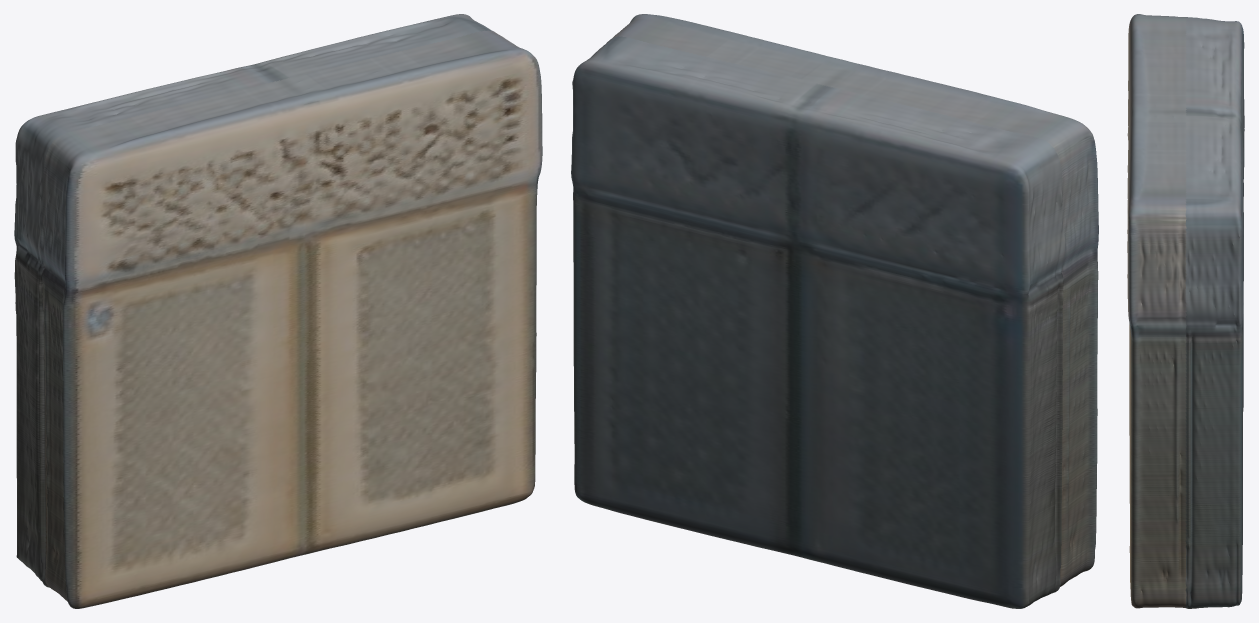
Rendered from kfl-2215.glb.
The picture shows the model from 3 angles, left to right: view 1: azimuth 30°, elevation 25°; view 2: azimuth 150°, elevation 25°; view 3: azimuth 270°, elevation 25°; orthographic projection. The views are drawn at different scales.
Parts seen in each view (by area): view 1: geometry_0; view 2: geometry_0; view 3: geometry_0.
Boxes of the visible parts, x1=… form: geometry_0: x1=14, y1=14, x2=542, y2=608; geometry_0: x1=571, y1=14, x2=1098, y2=608; geometry_0: x1=1127, y1=14, x2=1244, y2=608.
Bounding box in the file's own units: 0.9954 × 0.9172 × 0.2378.
1 material, 1 textured.
